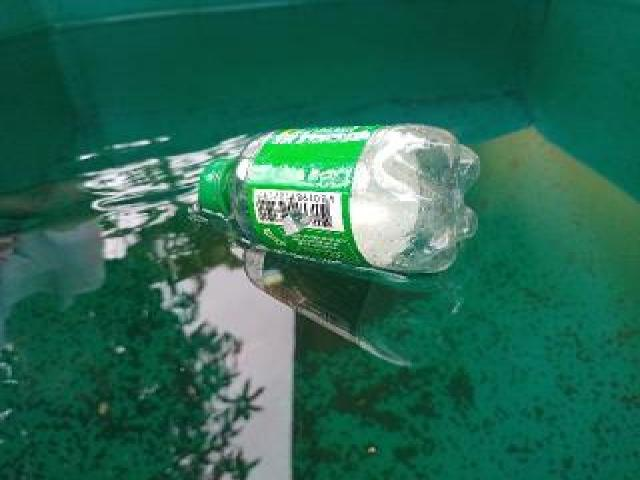Bottle: (185, 114, 490, 281)
